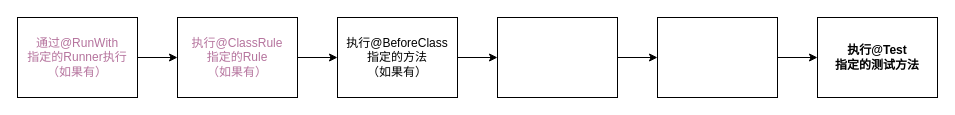
Image size: 955x115. Some labels were removed from this diagram. The centre of each missing label's shape, as x and y in pixels:
执行@Before 指定的方法 （如果有）: the point at 717,57
执行@Rule 指定的Rule （如果有）: the point at 557,57
